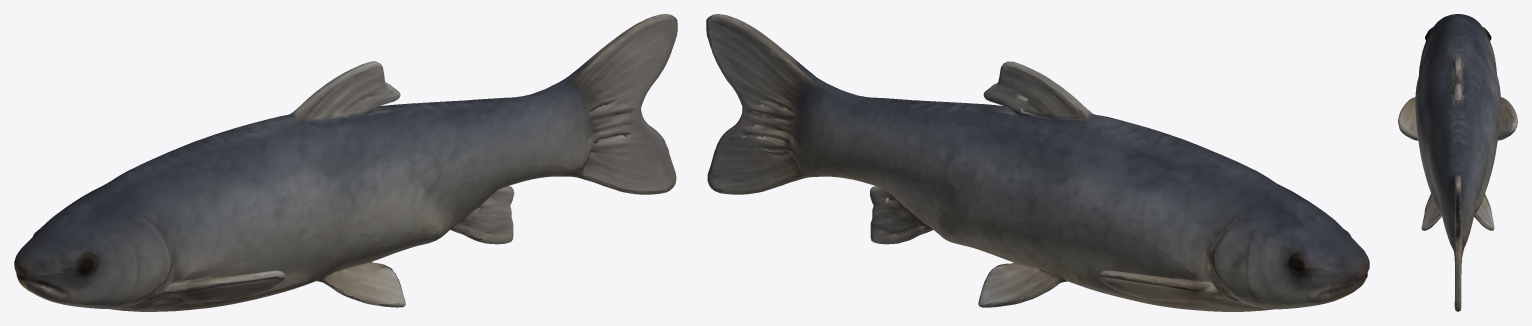
The model's file is fish_truck_mtprep.glb.
The picture shows the model from 3 angles, left to right: view 1: azimuth 30°, elevation 25°; view 2: azimuth 150°, elevation 25°; view 3: azimuth 270°, elevation 25°; orthographic projection. The views are drawn at different scales.
Parts seen in each view (by area): view 1: geometry_0; view 2: geometry_0; view 3: geometry_0.
Part boxes in pixels (left/top/right/bottom): geometry_0: left=14, top=14, right=677, bottom=311; geometry_0: left=706, top=14, right=1369, bottom=311; geometry_0: left=1398, top=14, right=1517, bottom=311.
Size of the model in its own units: 1.6 by 0.5333 by 0.3505.
1 material, 1 textured.
